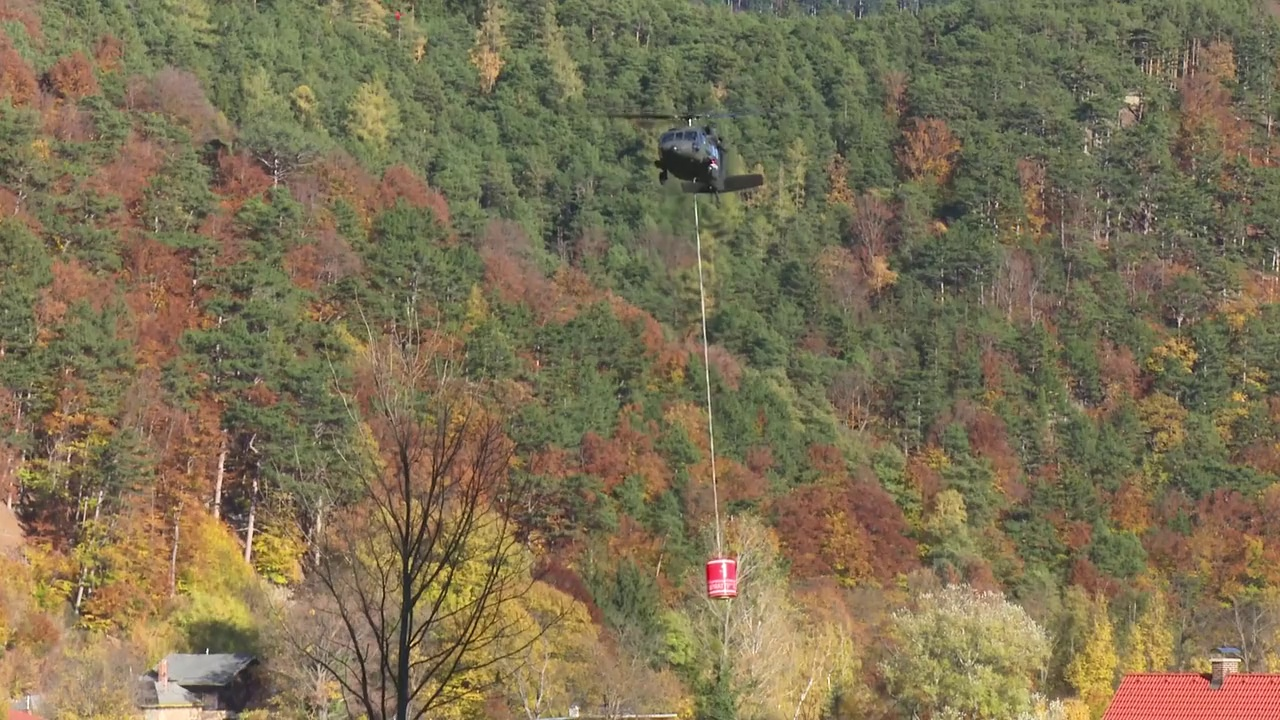heli: (611, 113, 768, 197)
